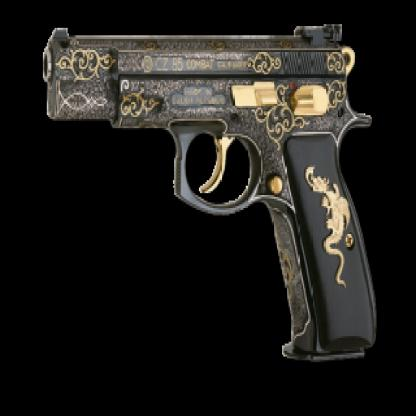handgun: (43, 31, 383, 365)
